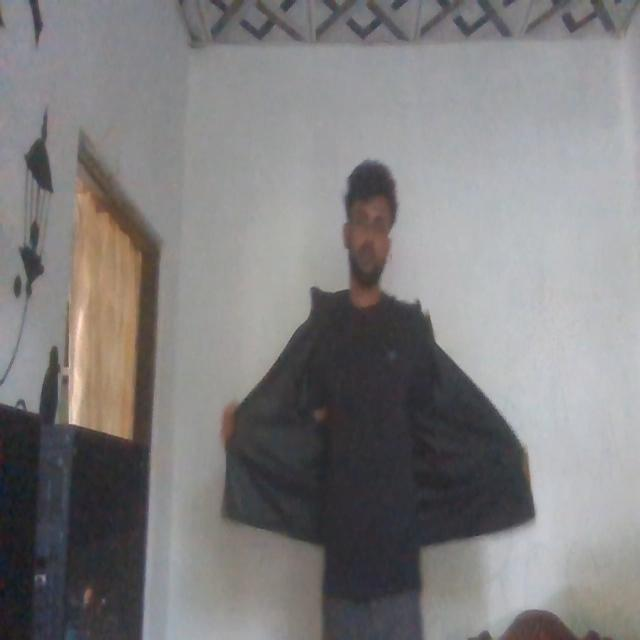Jacket_Wearer: (221, 282, 539, 578)
Person: (301, 153, 435, 640)
